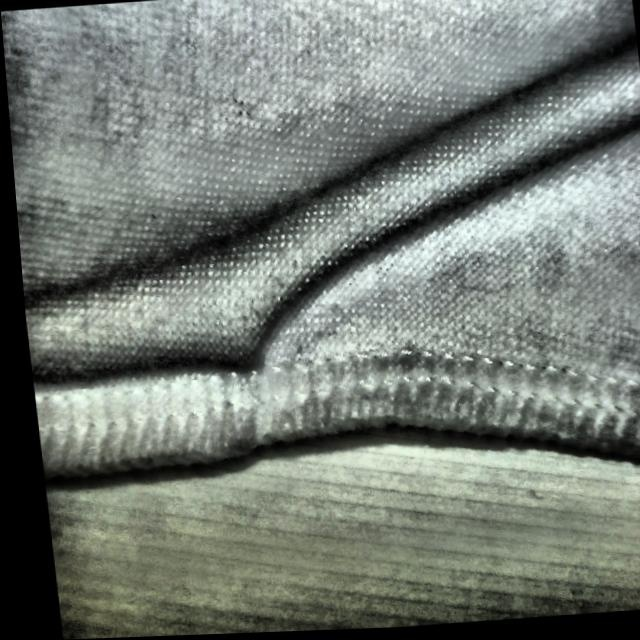seam: (105, 226, 355, 483)
